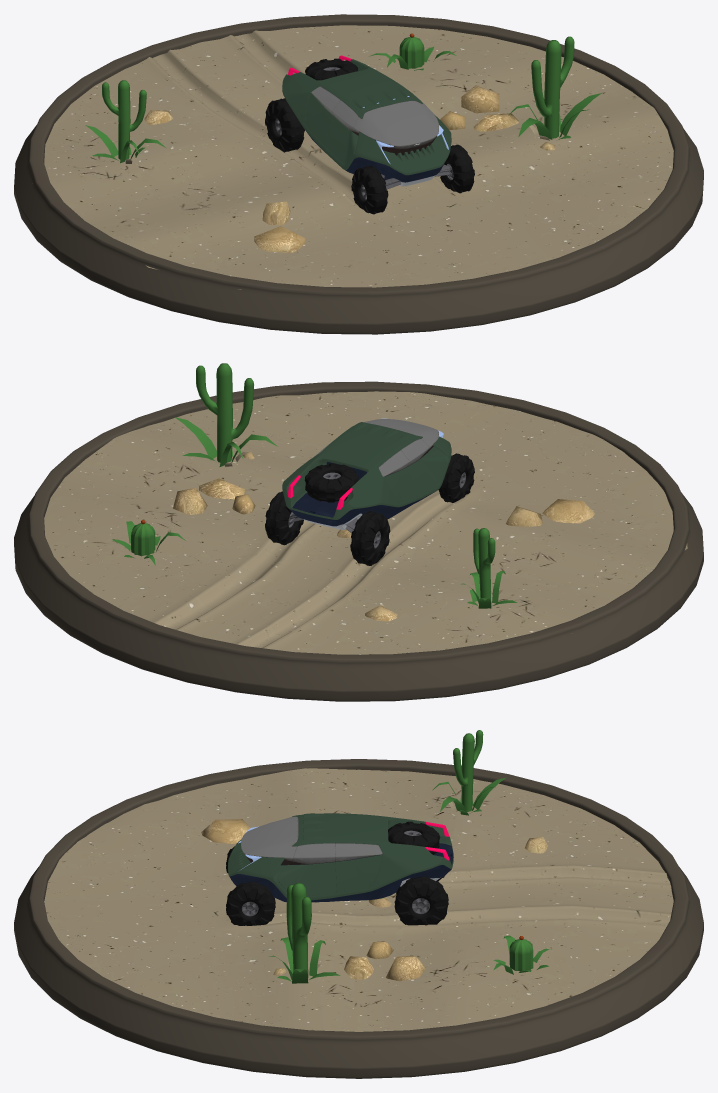
Rendered from buggy.glb.
3 views of the same model, one above another, from view 1: azimuth 30°, elevation 25°; view 2: azimuth 150°, elevation 25°; view 3: azimuth 270°, elevation 25° (orthographic).
Parts seen in each view (by area): view 1: defaultMaterial (×19); view 2: defaultMaterial (×18); view 3: defaultMaterial (×19).
Boxes of the visible parts, left/top/right/bottom form: defaultMaterial (×19): left=14, top=14, right=703, bottom=334; defaultMaterial (×18): left=14, top=363, right=703, bottom=701; defaultMaterial (×19): left=14, top=730, right=703, bottom=1078.
Size of the model in its own units: 2 by 0.4177 by 2.
3 materials, 3 textured.
